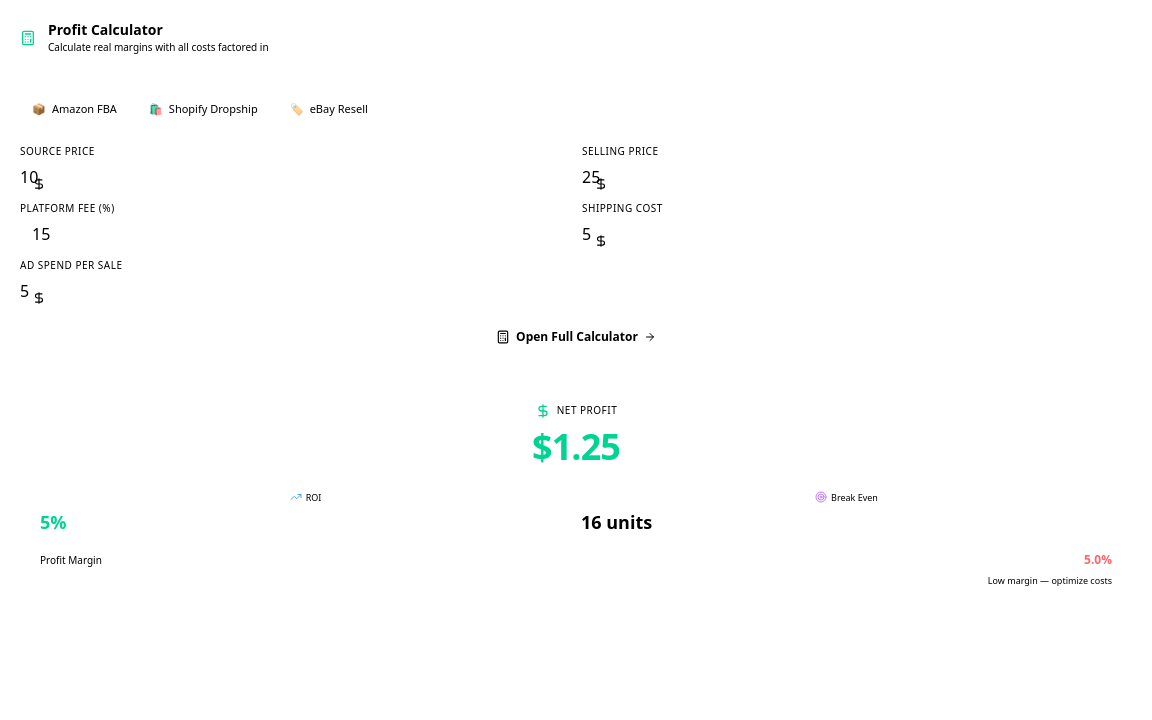
Test case: ProfitCalculator › applies an Amazon FBA preset
Click the button "📦 Amazon FBA" at {"x": 74, "y": 109}, box [20,95,129,124]
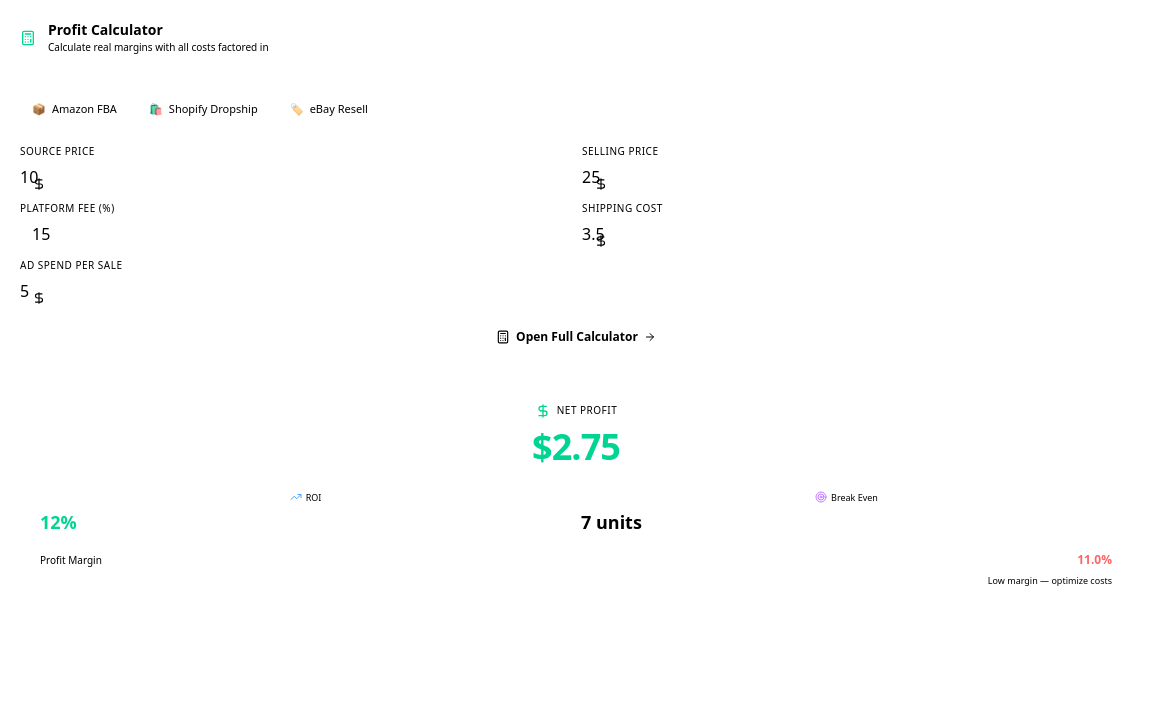
Check: the text "$2.75" is shown, box [532,422,620,470]
Check: the text "11.0%" is shown, box [1077,552,1112,568]
Check: the text "12%" is shown, box [40,510,77,534]
